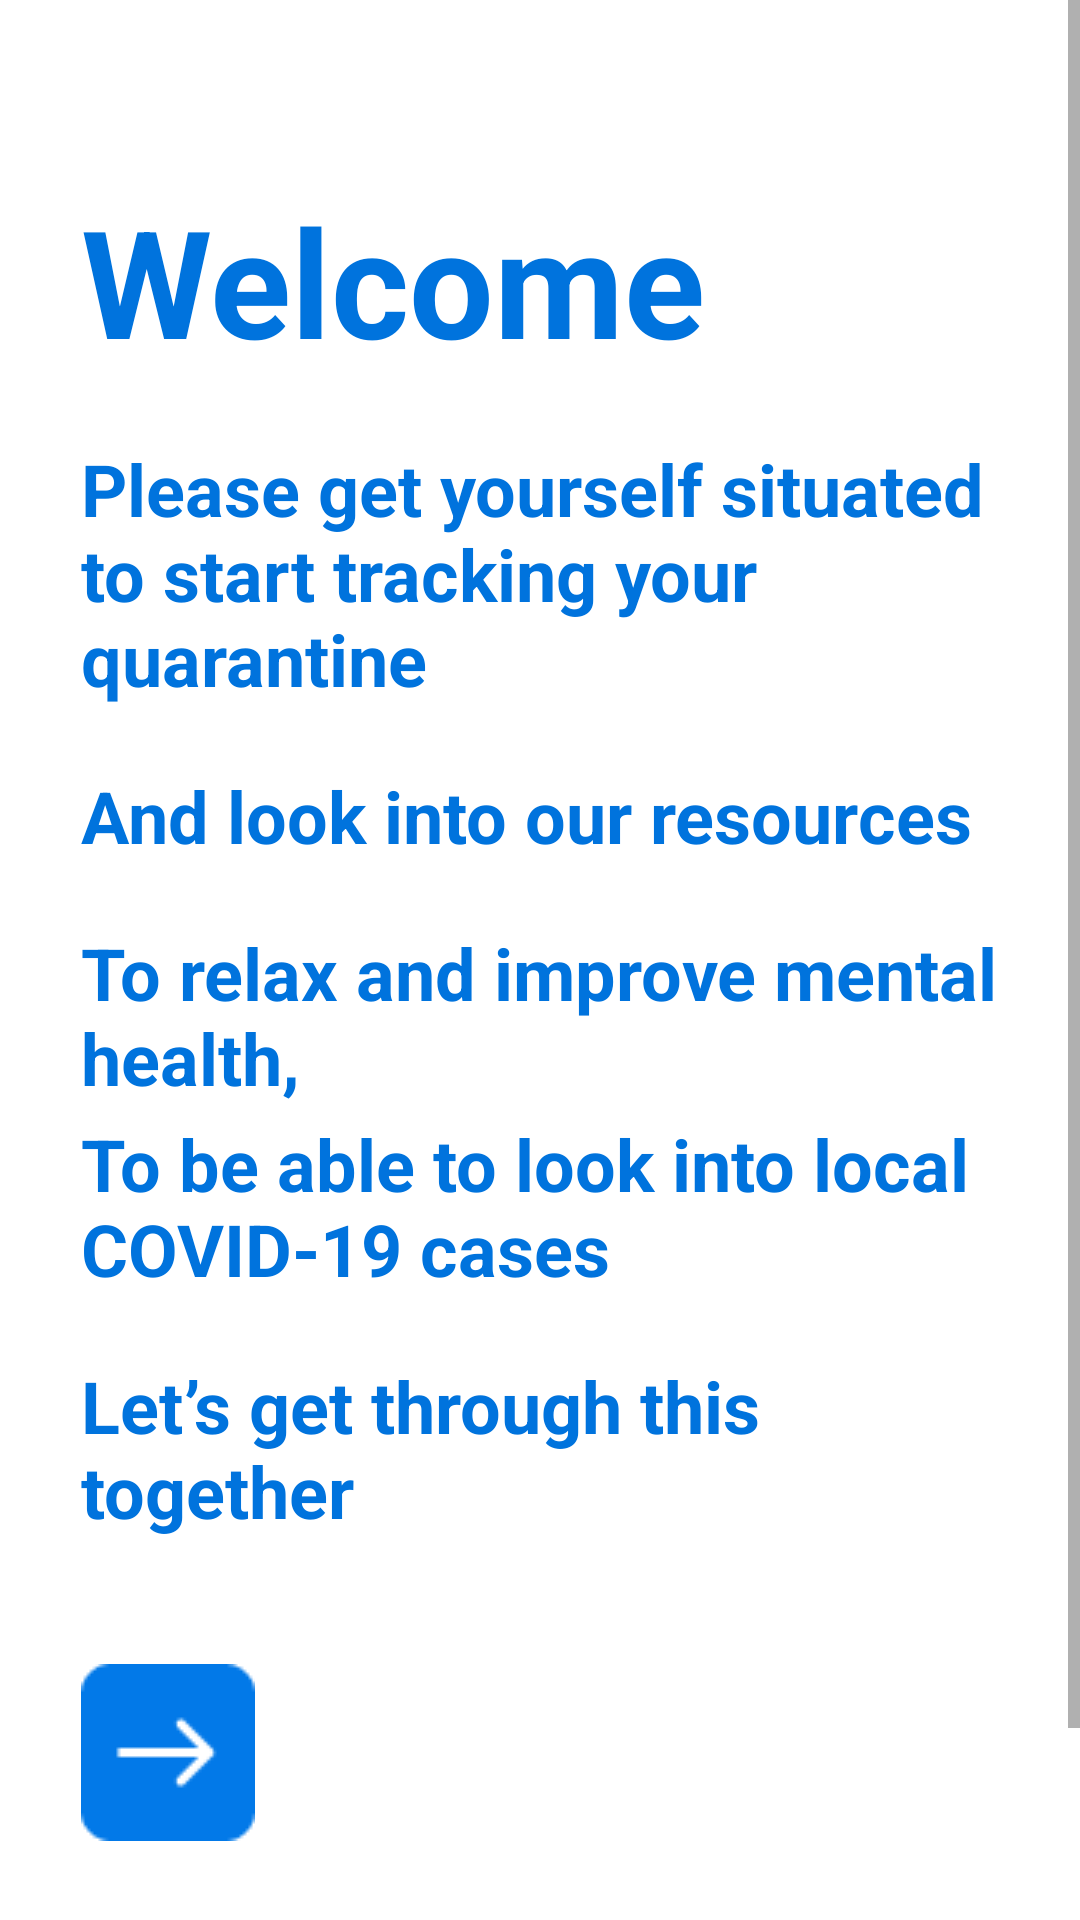

Screen size 1080x1920. Icon name, then its box in pixels as (x1, y1, x2, y2):
go button: (81, 1664, 255, 1841)
